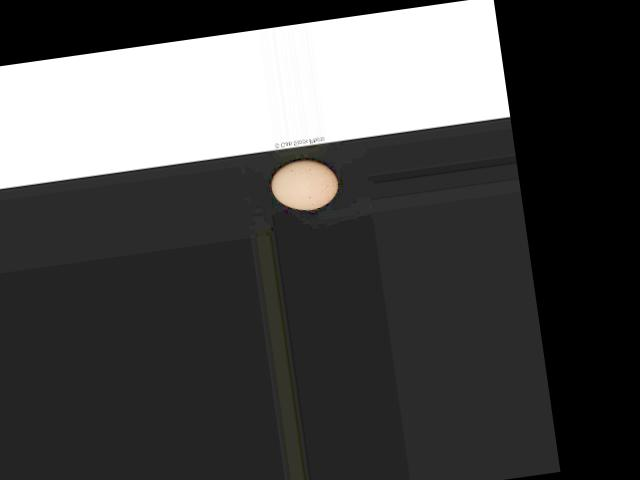egg: (268, 155, 340, 214)
